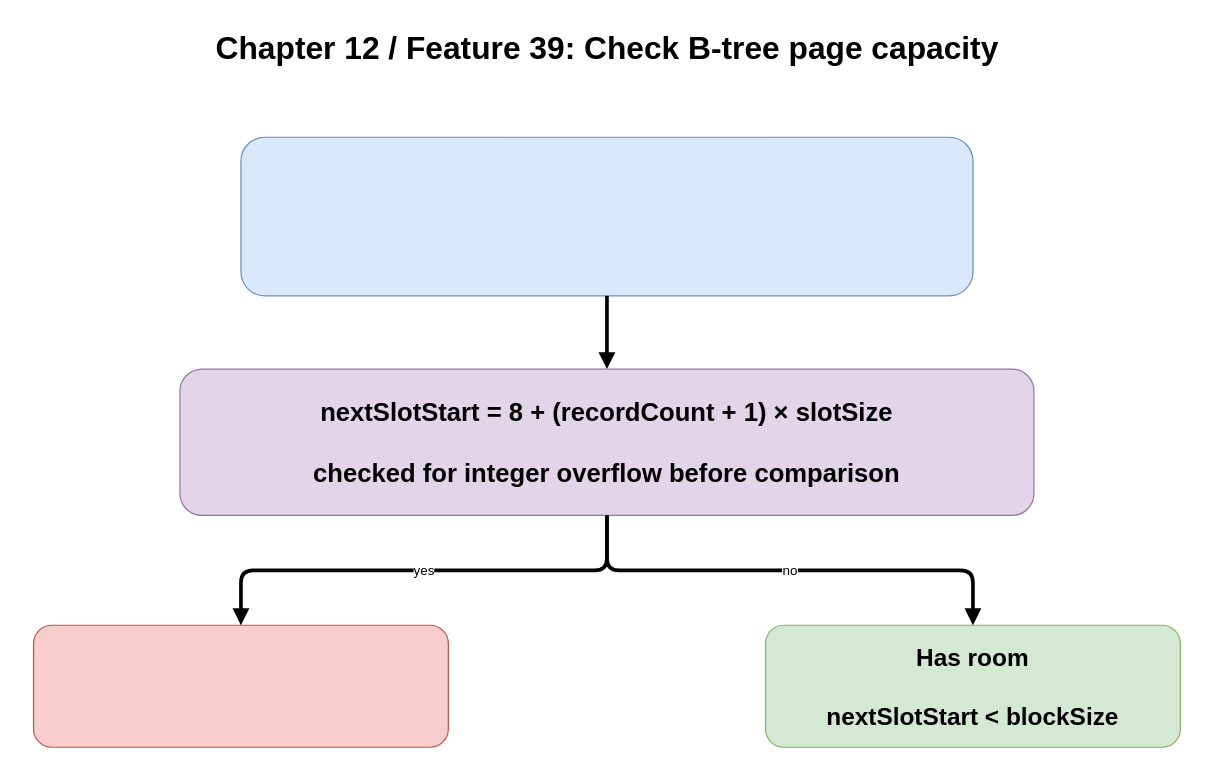
This 1213x769 diagram has some shape labels left out. The centre of each missing label's shape, as x and y in pixels:
"Full nextSlotStart ≥ blockSize" belongs at pixel 240 685.
"Page inputs 8-byte header recordCount · layout.slotSize transaction.blockSize" belongs at pixel 606 216.
